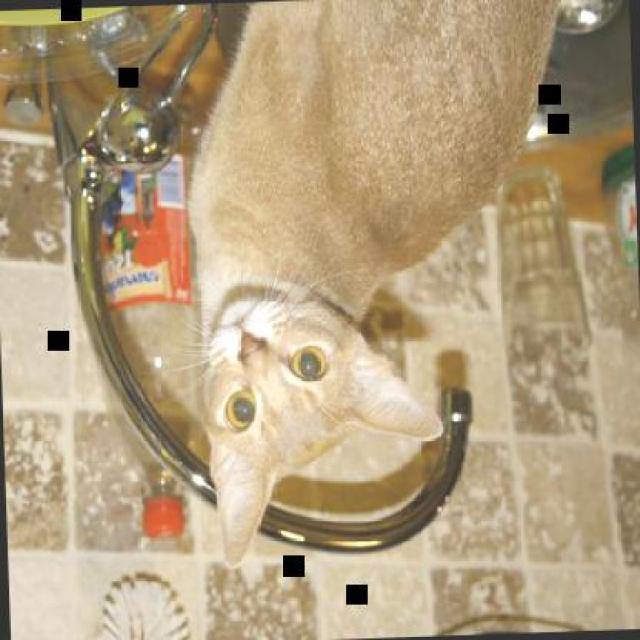cat: (182, 0, 589, 571)
